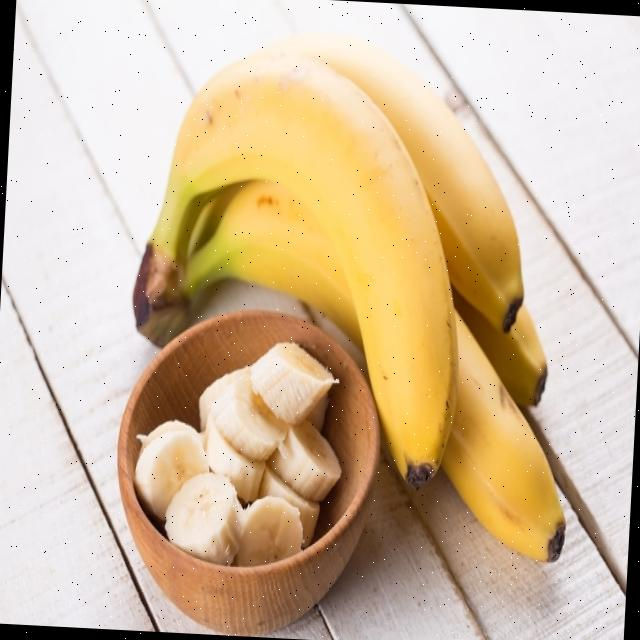Pisang: (121, 25, 592, 565), (266, 29, 567, 410), (130, 332, 349, 571), (436, 306, 578, 564)
